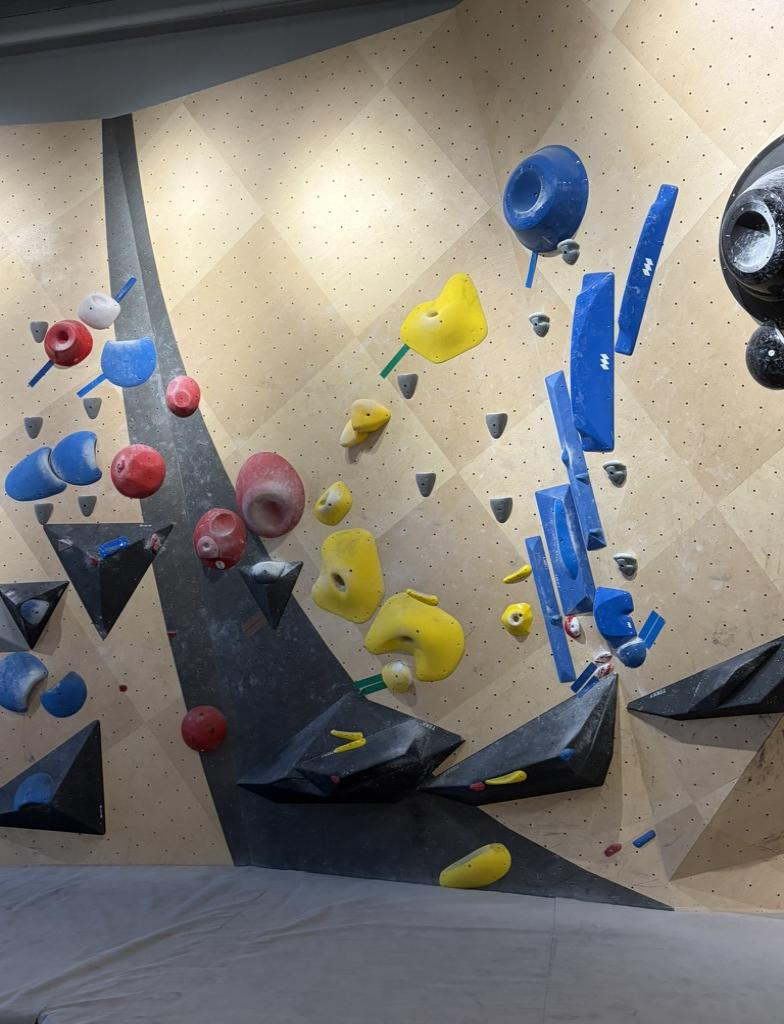crimp: (102, 337, 156, 385), (41, 671, 87, 717), (248, 560, 292, 582), (406, 588, 437, 605), (504, 564, 531, 583), (331, 729, 362, 740)
downhold: (602, 460, 626, 486), (614, 553, 637, 578), (557, 238, 579, 264), (490, 497, 511, 523), (398, 373, 418, 399), (529, 312, 549, 336), (415, 472, 435, 496), (486, 414, 506, 437), (83, 397, 101, 418), (31, 321, 48, 342), (26, 416, 42, 438)
jib: (486, 769, 526, 785), (632, 830, 655, 847), (604, 844, 621, 856)
jug: (352, 399, 390, 433), (618, 637, 646, 667), (341, 420, 366, 446)
ledge: (504, 145, 588, 253)
pocket: (401, 273, 487, 362), (311, 529, 384, 621), (314, 481, 351, 525), (502, 604, 532, 636), (196, 534, 217, 556)
sidepull: (545, 371, 605, 549), (615, 185, 677, 355), (571, 272, 614, 451), (527, 537, 575, 681), (5, 446, 65, 500), (0, 653, 48, 713), (52, 432, 100, 484), (553, 499, 577, 578)
sloper: (720, 140, 783, 324), (237, 452, 304, 537), (194, 508, 246, 569), (111, 444, 165, 497), (182, 707, 226, 751), (165, 377, 199, 416)
tape: (380, 344, 408, 378), (639, 612, 665, 648), (353, 674, 386, 696), (28, 360, 53, 386), (571, 663, 593, 692), (78, 375, 105, 397), (579, 675, 602, 698), (114, 277, 135, 301), (526, 252, 537, 287)
undercling: (365, 591, 463, 680), (14, 772, 53, 810)
volume: (422, 676, 616, 804), (238, 693, 461, 802), (44, 523, 173, 638), (628, 636, 783, 719), (0, 720, 103, 834), (0, 581, 67, 651), (240, 560, 302, 628)
